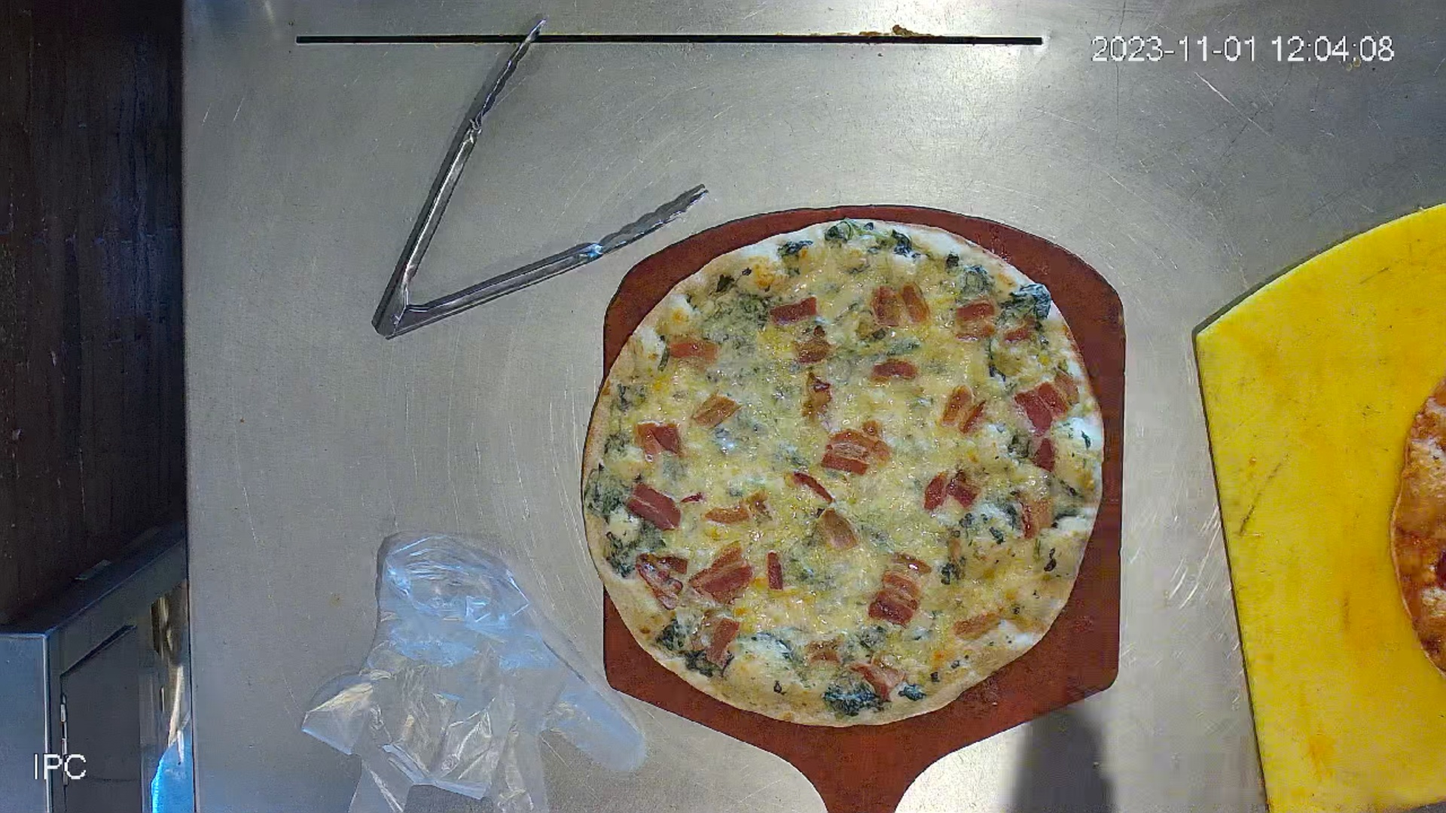pepporoni: (580, 220, 1108, 729)
